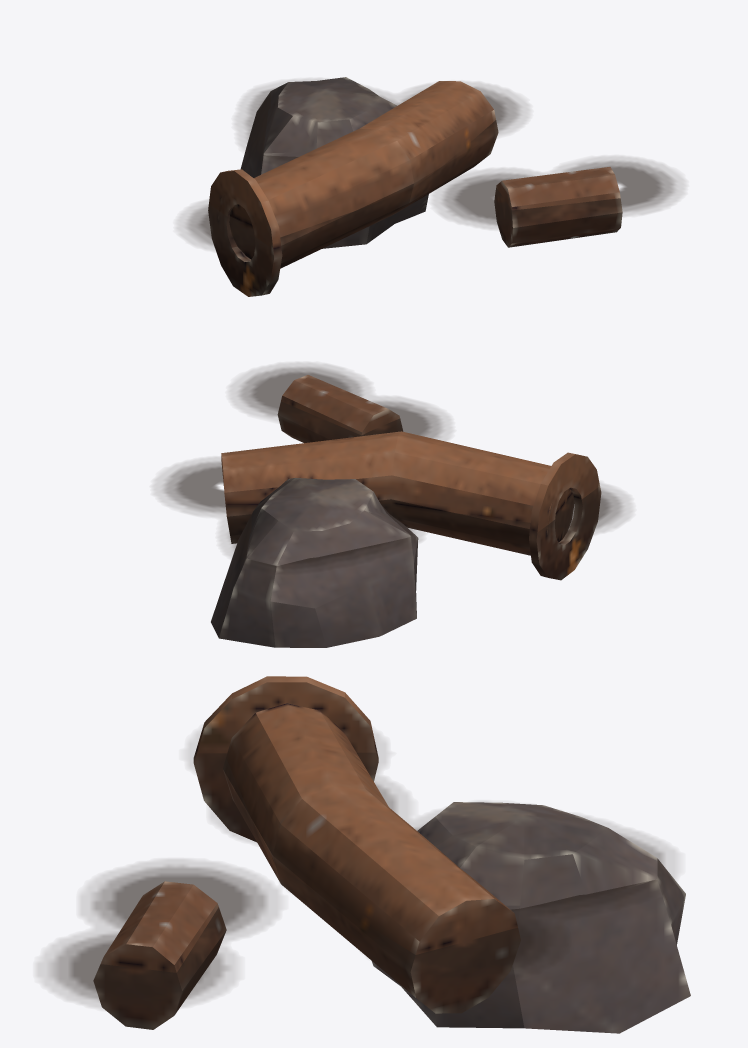
The picture shows the model from 3 angles, top to bottom: view 1: azimuth 30°, elevation 25°; view 2: azimuth 150°, elevation 25°; view 3: azimuth 270°, elevation 25°; orthographic projection. The views are drawn at different scales.
Visible parts, largest first — view 1: Pipe, GroundShade, PipeStone; view 2: Pipe, PipeStone, GroundShade; view 3: Pipe, PipeStone, GroundShade.
Boxes of the visible parts, x1=… form: Pipe: x1=208, y1=81, x2=622, y2=296; GroundShade: x1=178, y1=79, x2=683, y2=254; PipeStone: x1=240, y1=77, x2=428, y2=248; Pipe: x1=221, y1=375, x2=601, y2=580; PipeStone: x1=211, y1=477, x2=418, y2=647; GroundShade: x1=154, y1=363, x2=631, y2=572; Pipe: x1=93, y1=676, x2=520, y2=1029; PipeStone: x1=372, y1=802, x2=690, y2=1033; GroundShade: x1=38, y1=733, x2=674, y2=1009.
Size of the model in its own units: 12.8 by 3.56 by 12.13.
3 materials, 3 textured.
